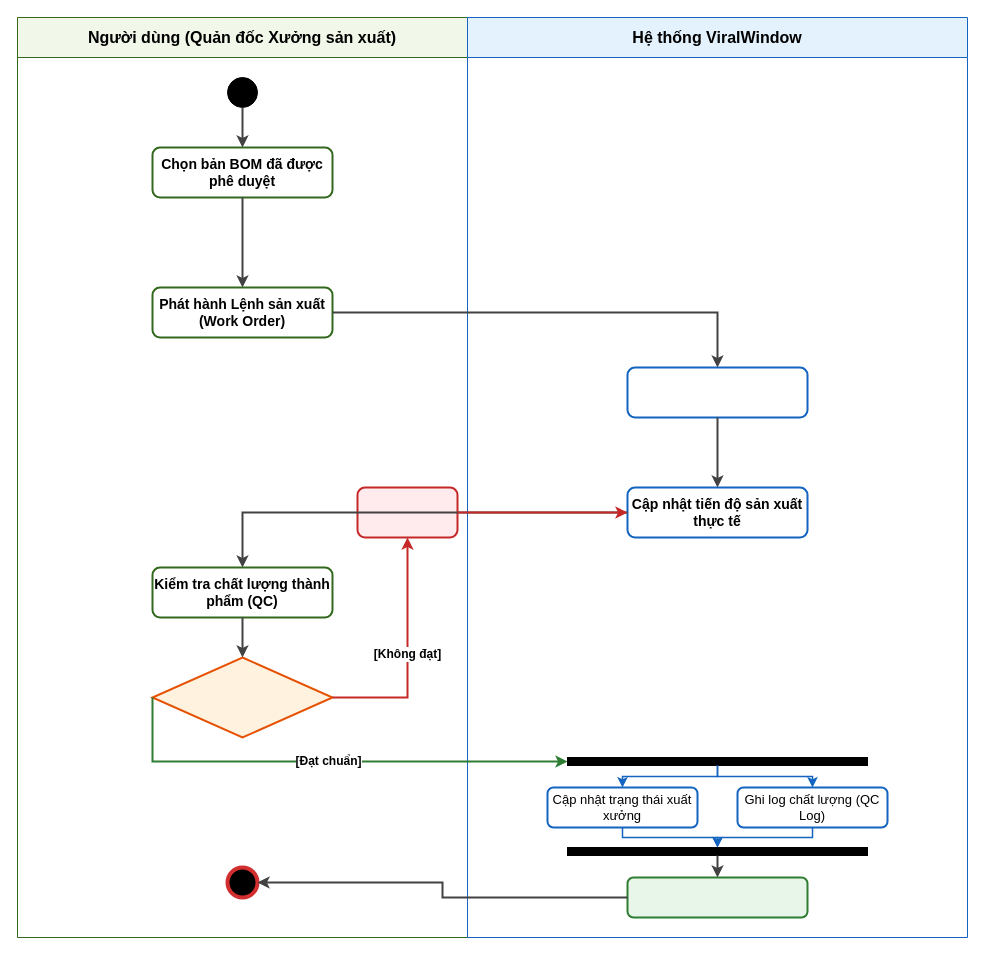
This 985x955 diagram has some shape labels left out. The centre of each missing label's shape, as x and y in pixels:
"Hoàn thành sản xuất" goes at point (717, 897).
"Phân bổ nhiệm vụ cho các Trạm cắt/ghép" goes at point (717, 392).
"QC Đạt?" goes at point (242, 697).
"Yêu cầu sửa chữa / Rework" goes at point (407, 512).
